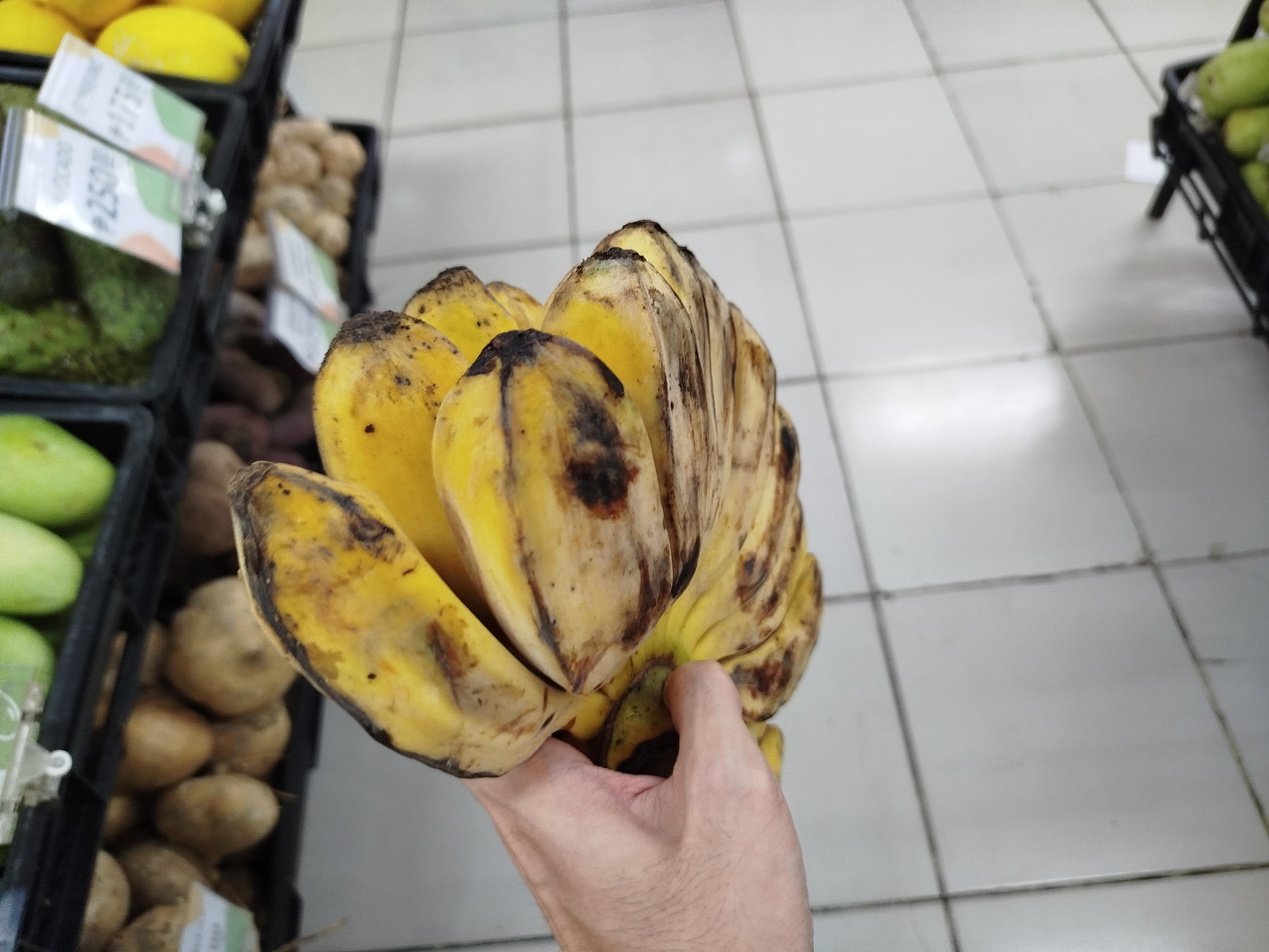ripe: (231, 221, 823, 777)
